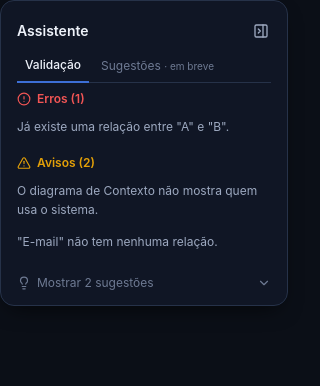
Test: ValidationPanel › deve deixar as sugestões recolhidas por padrão, para não esconderem os avisos
This screenshot has width=320, height=386.
Check: the text "\"Cliente\" não tem descrição." is not shown
Click the button "Mostrar 2 sugestões".
click(144, 283)  # box [9,269,279,297]
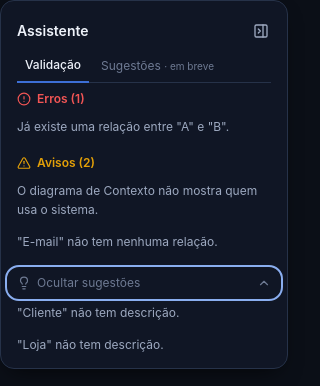
Check: the button "\"Cliente\" não tem descrição." is shown, box [9,297,279,328]
Check: the button "Ocultar sugestões" is expanded, box [9,269,279,297]
